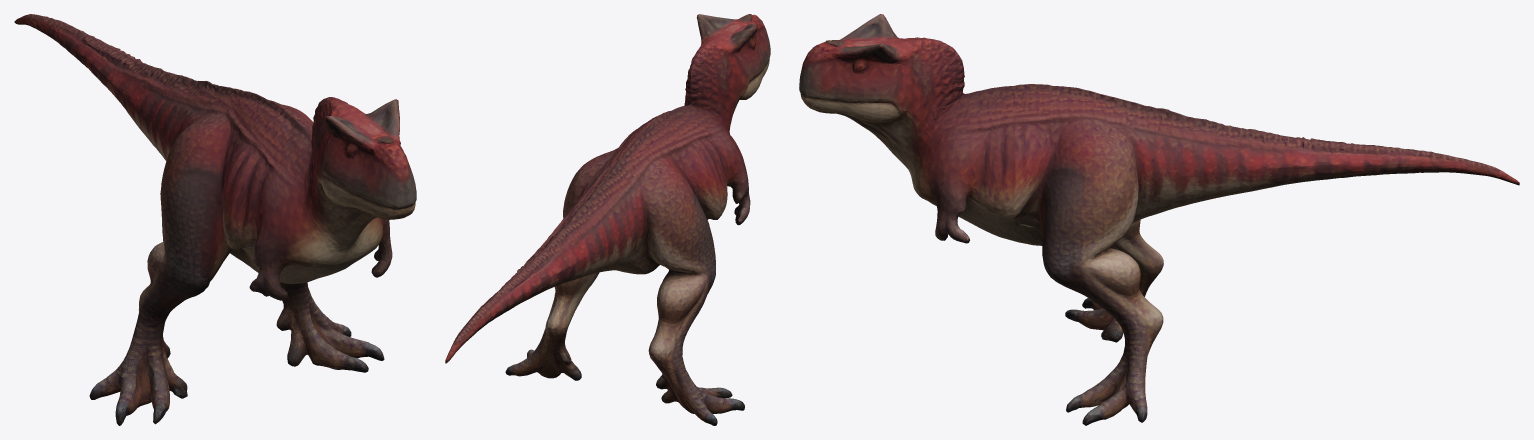
3 renders of one model, left to right at view 1: azimuth 30°, elevation 25°; view 2: azimuth 150°, elevation 25°; view 3: azimuth 270°, elevation 25°, orthographic. The views are drawn at different scales.
Parts seen in each view (by area): view 1: world; view 2: world; view 3: world.
Boxes of the visible parts, x1,y1,x2,y2 form: world: [14, 14, 416, 425]; world: [445, 14, 770, 425]; world: [799, 14, 1519, 425].
Bounding box in the file's own units: 0.3939 × 0.5178 × 0.9982.
Materials: 2 (1 with a texture image).
